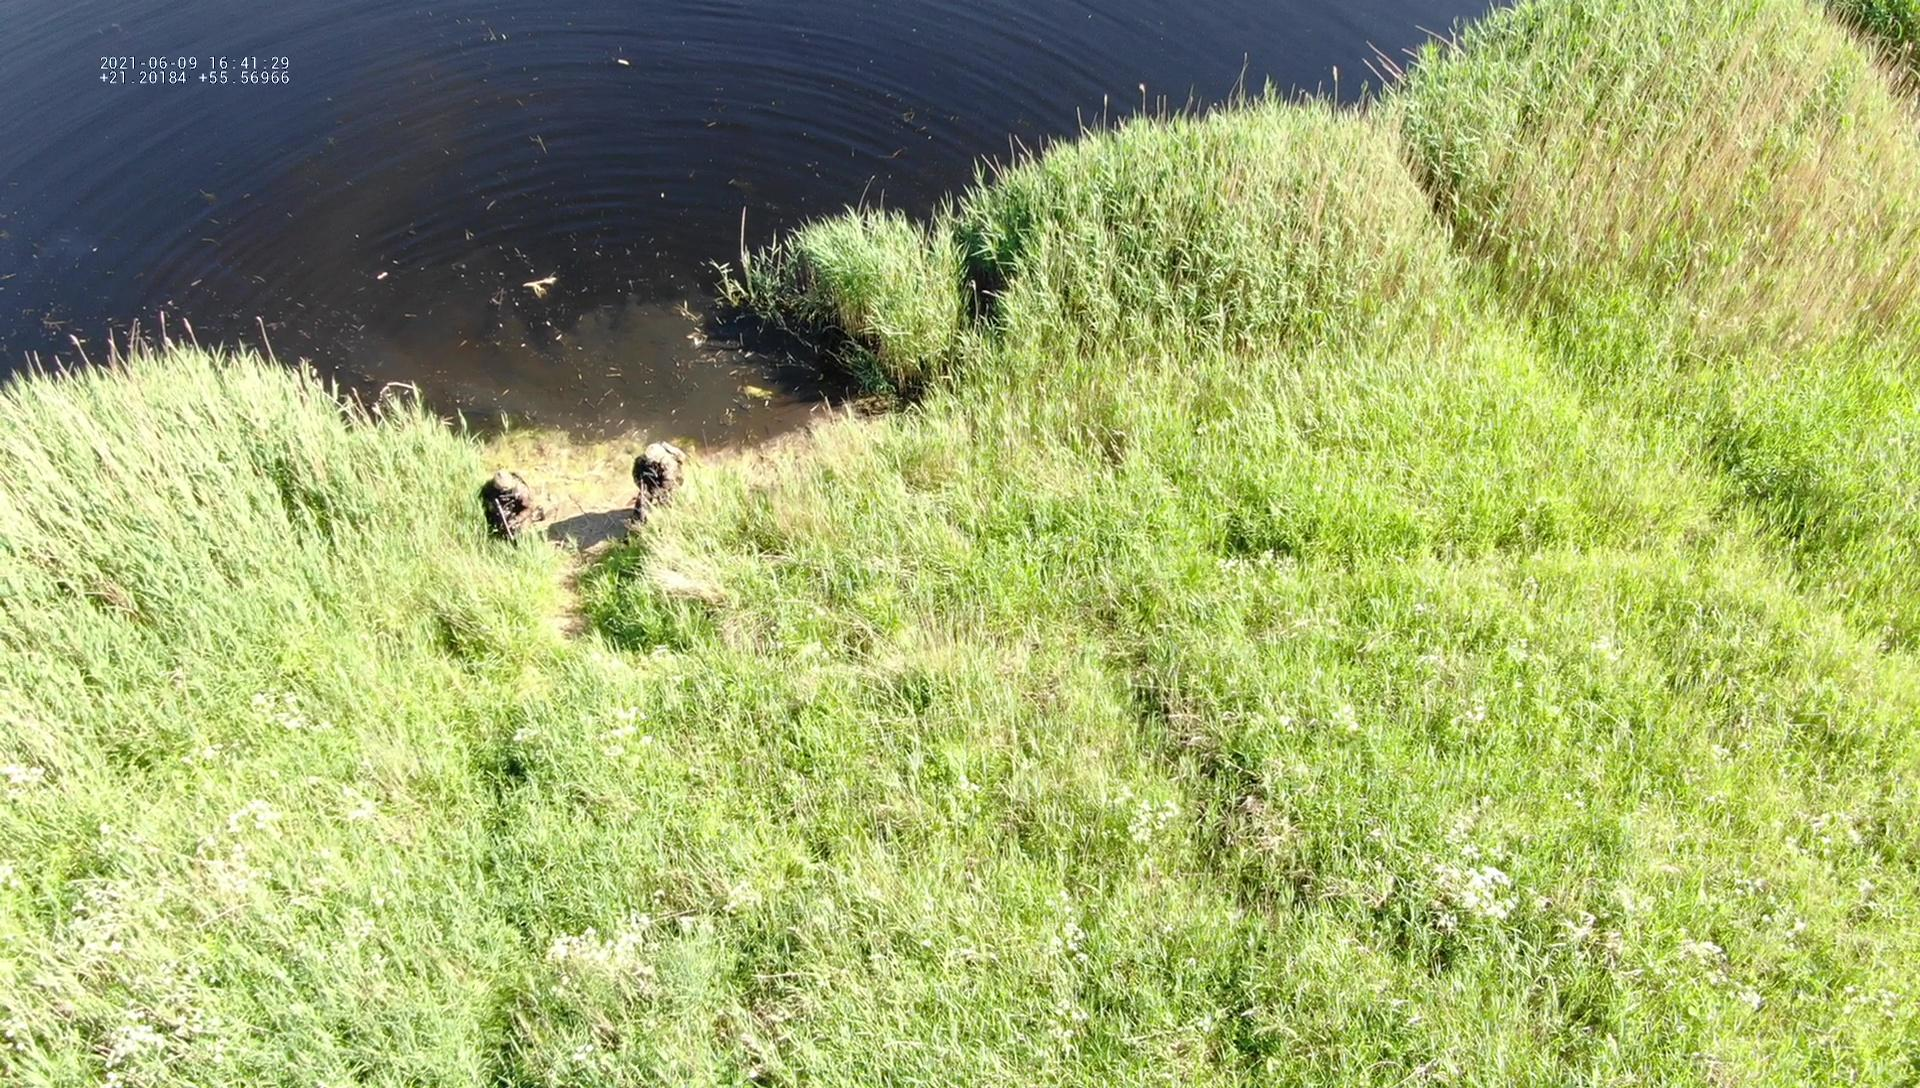Soldier: (632, 440, 686, 530), (477, 466, 535, 549)
